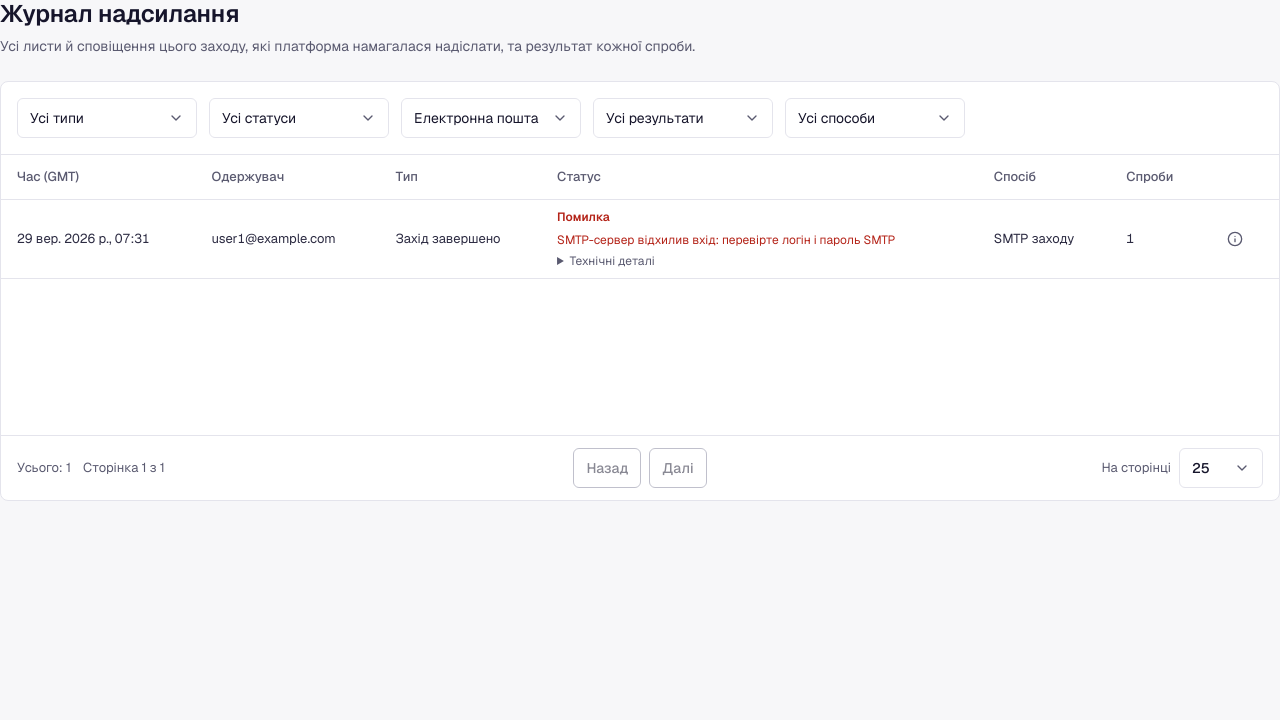
Scenario: Журнал надсилання › shows a 530 authentication failure as the friendly SMTP line with the raw text
Expected: the text "SMTP-сервер відхилив вхід: перевірте логін і пароль SMTP" is shown, [557, 232, 895, 248]
Expected: the heading "Технічні деталі" is shown, [570, 253, 655, 269]
Click the button named "Деталі надсилання: Захід завершено" at [1235, 239], box [1219, 223, 1251, 255]
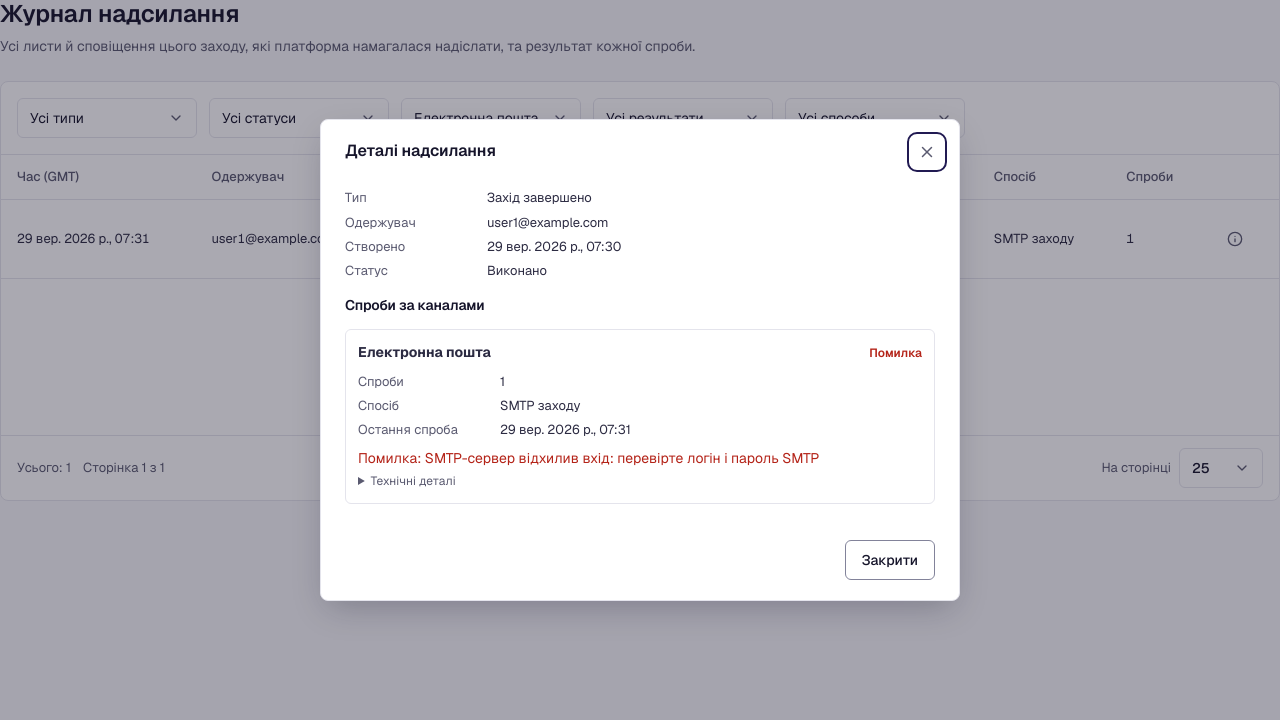
Expected: the text "Помилка: SMTP-сервер відхилив вхід: перевірте логін і пароль SMTP" is shown, [358, 449, 820, 467]
